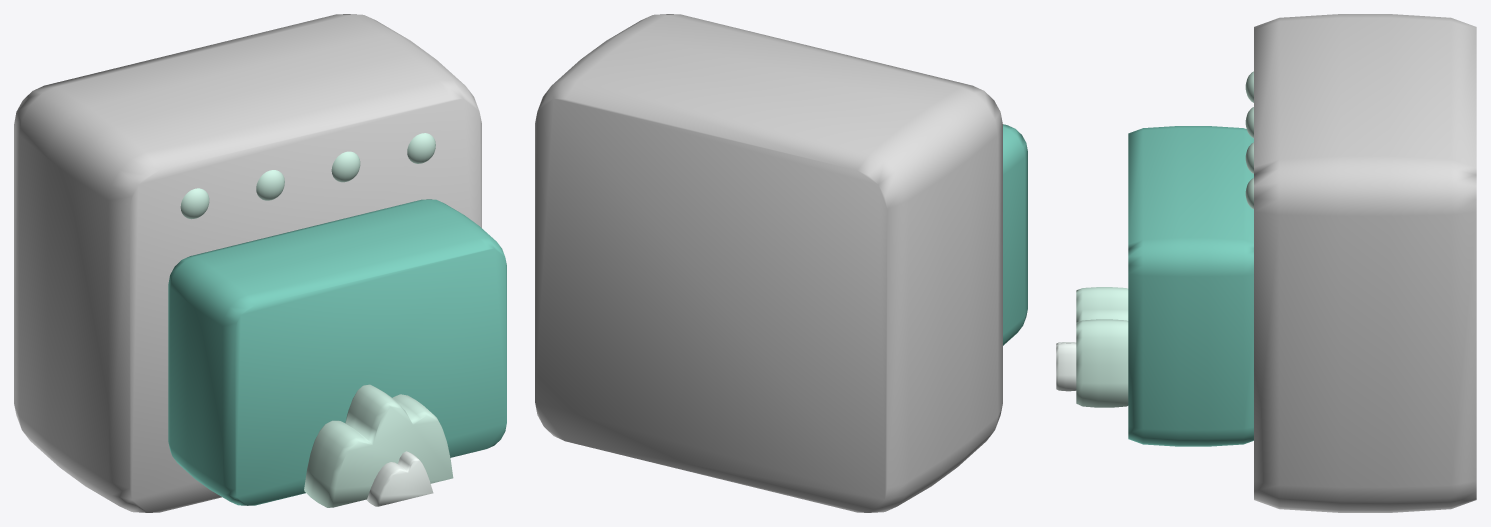
The model's file is decor_1_mint.glb.
3 views of the same model, side by side, from view 1: azimuth 30°, elevation 25°; view 2: azimuth 150°, elevation 25°; view 3: azimuth 270°, elevation 25° (orthographic). The views are drawn at different scales.
Visible parts, largest first — view 1: decor_1_mint; view 2: decor_1_mint; view 3: decor_1_mint.
Boxes of the visible parts, x1,y1,x2,y2 form: decor_1_mint: (14,14,506,512); decor_1_mint: (535,14,1027,512); decor_1_mint: (1056,14,1476,512).
Bounding box in the file's own units: 14.91 × 13.91 × 15.02.
